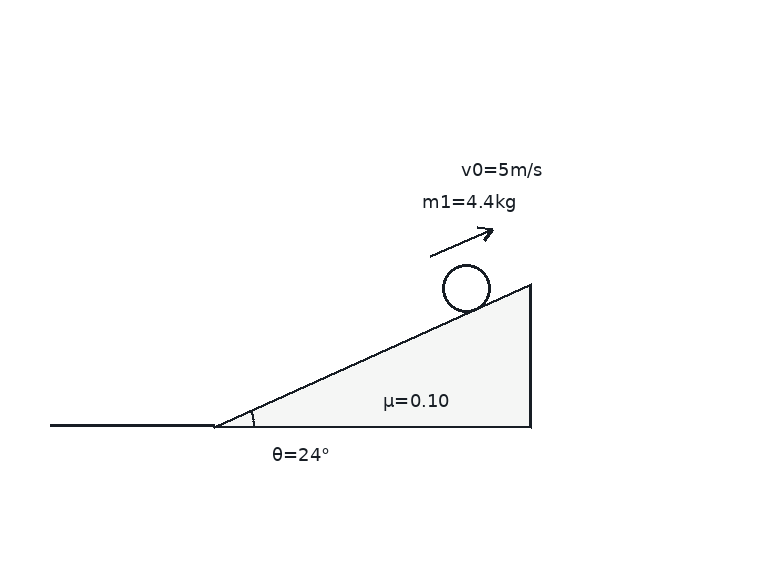ball: (440, 262, 492, 314)
ramp: (212, 283, 532, 428)
